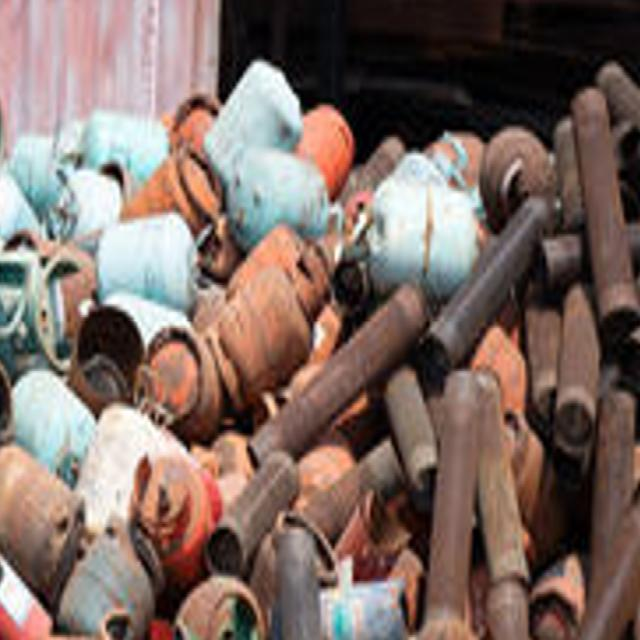cylinder: (205, 251, 325, 409), (130, 451, 224, 589), (227, 146, 342, 254), (98, 213, 212, 308)
